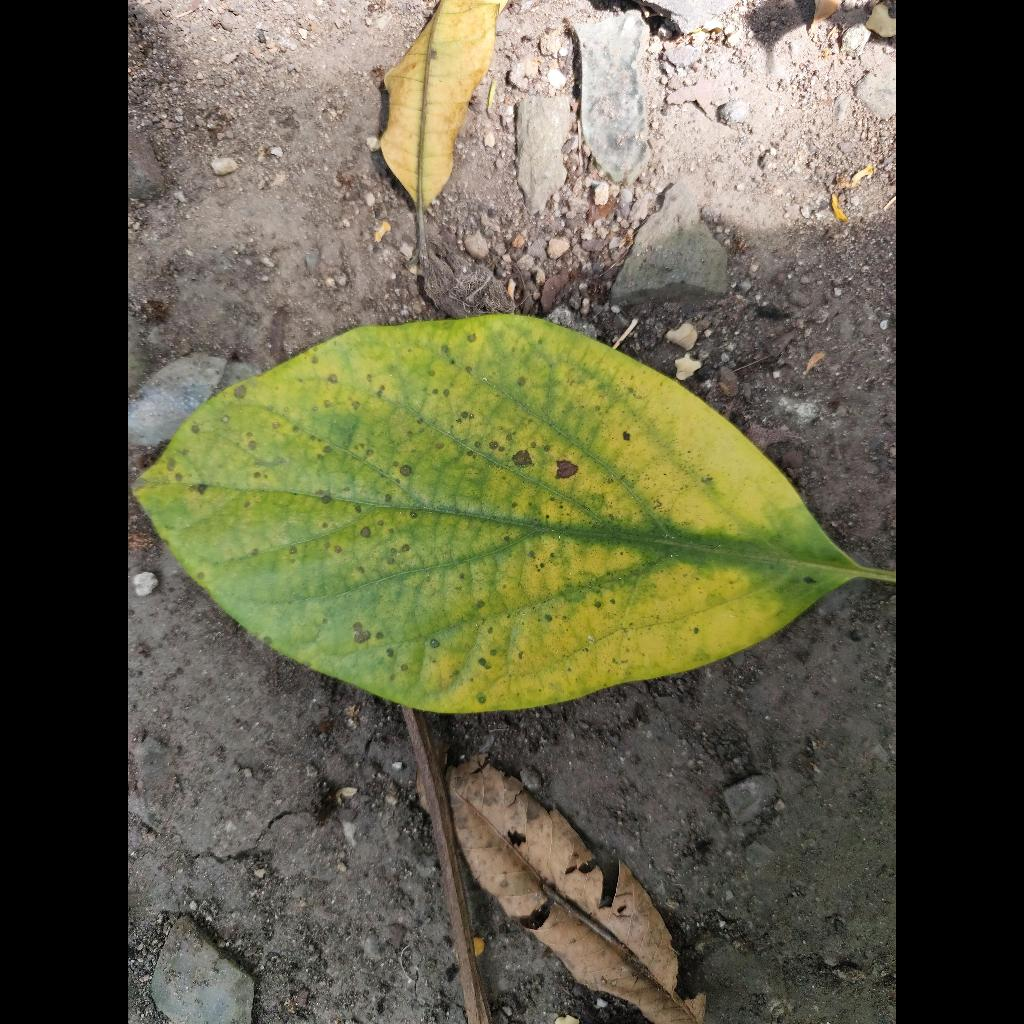nutrient_deficiency: (135, 316, 896, 713)
